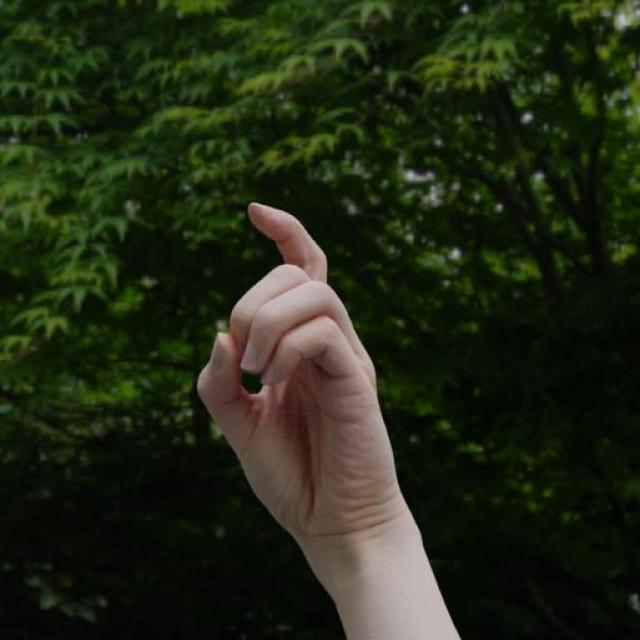X: (192, 199, 424, 540)
